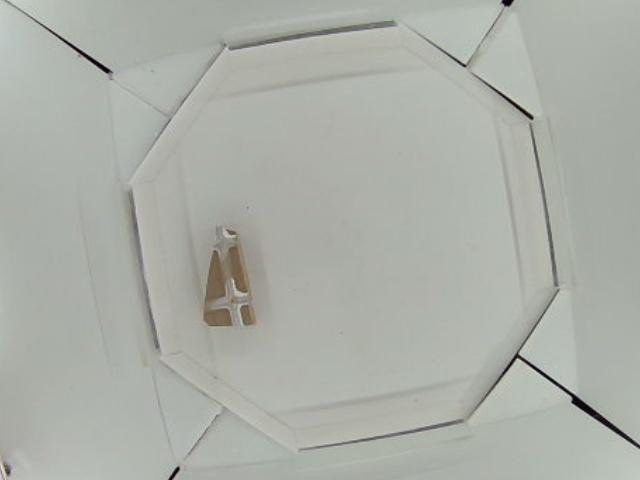China: (200, 229, 257, 326)
